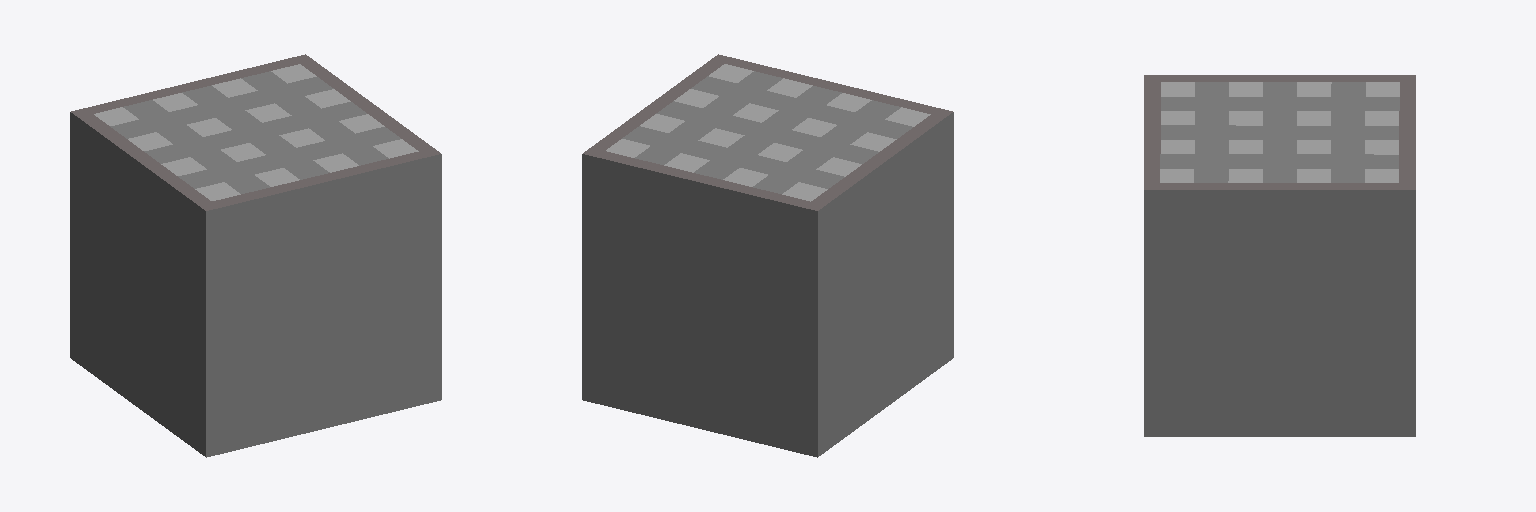
3 views of the same model, side by side, from view 1: azimuth 30°, elevation 25°; view 2: azimuth 150°, elevation 25°; view 3: azimuth 270°, elevation 25° (orthographic).
Visible parts, largest first — view 1: Cube; view 2: Cube; view 3: Cube.
Boxes of the visible parts, x1=… form: Cube: x1=70, y1=54, x2=441, y2=457; Cube: x1=582, y1=54, x2=953, y2=457; Cube: x1=1144, y1=75, x2=1415, y2=436.
Size of the model in its own units: 1 by 1 by 1.
Materials: 1 (1 with a texture image).